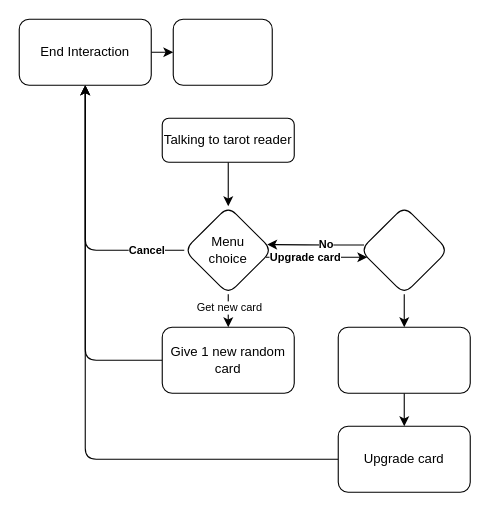
Image size: 490x512. Some labels were removed from this diagram. The shapes that lost their labels are listed below. From the top down, each one's centre as x and y in pixels, then its label:
At [222,51]: "Begin Next Wave".
At [403,249]: "1+ card owned?".
At [403,359]: "Choose what card to upgrade".
